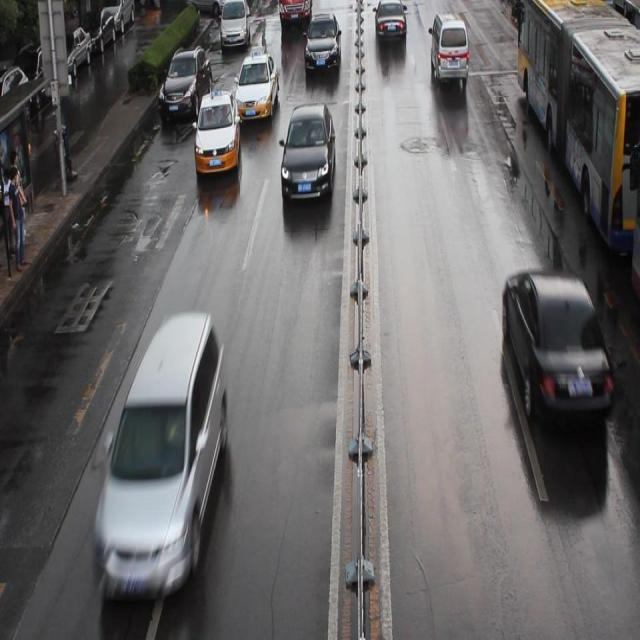bus: (277, 1, 312, 25)
car: (500, 266, 614, 423), (279, 103, 335, 202), (159, 44, 213, 120), (194, 91, 239, 173), (233, 51, 278, 117), (304, 14, 341, 74), (219, 2, 250, 48), (374, 1, 406, 43), (186, 1, 235, 17)
truck: (93, 310, 230, 598), (428, 14, 468, 83)
van: (515, 1, 640, 251), (628, 184, 640, 295)
